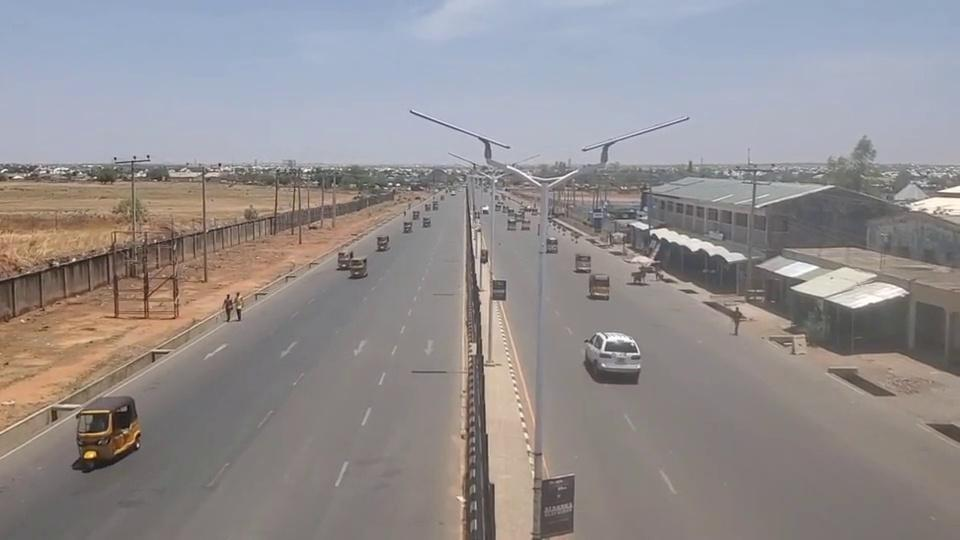car: (584, 330, 641, 379)
keke: (75, 394, 141, 469), (349, 258, 368, 278), (376, 236, 389, 251)
